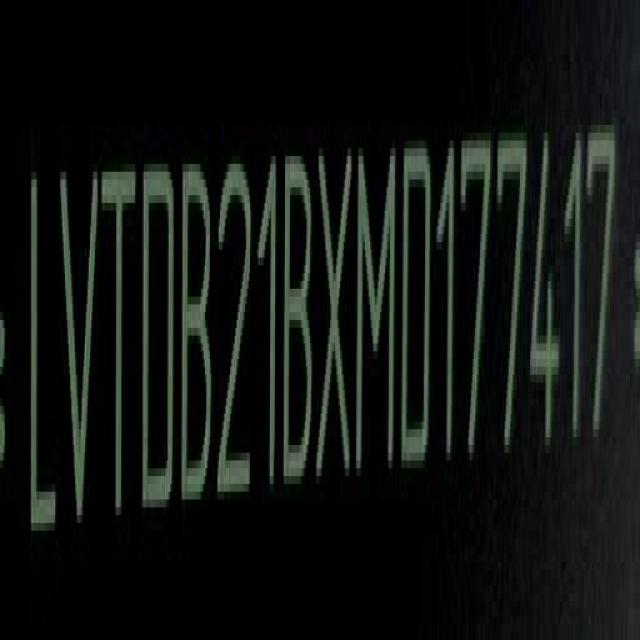1: (260, 150, 282, 510), (561, 122, 584, 459), (437, 133, 458, 479)
2: (216, 157, 256, 514)
4: (529, 114, 561, 461)
7: (462, 128, 494, 480), (498, 123, 530, 467), (589, 117, 621, 454)
B: (182, 159, 216, 523), (285, 146, 315, 498)
D: (138, 158, 177, 524), (401, 135, 435, 482)
L: (20, 156, 56, 552)
M: (357, 140, 402, 488)
T: (104, 158, 134, 534)
V: (55, 156, 100, 545)
X: (315, 144, 355, 498)
